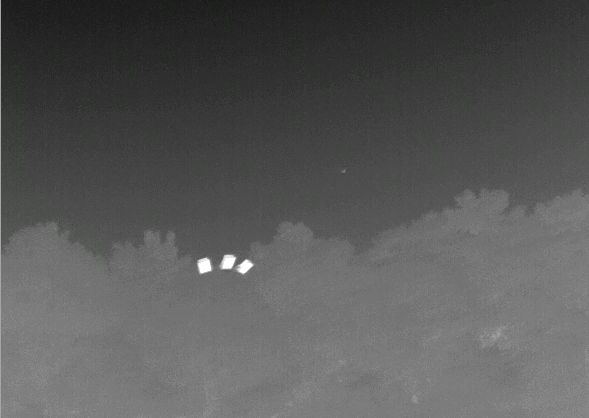dim target: (340, 168, 347, 175)
